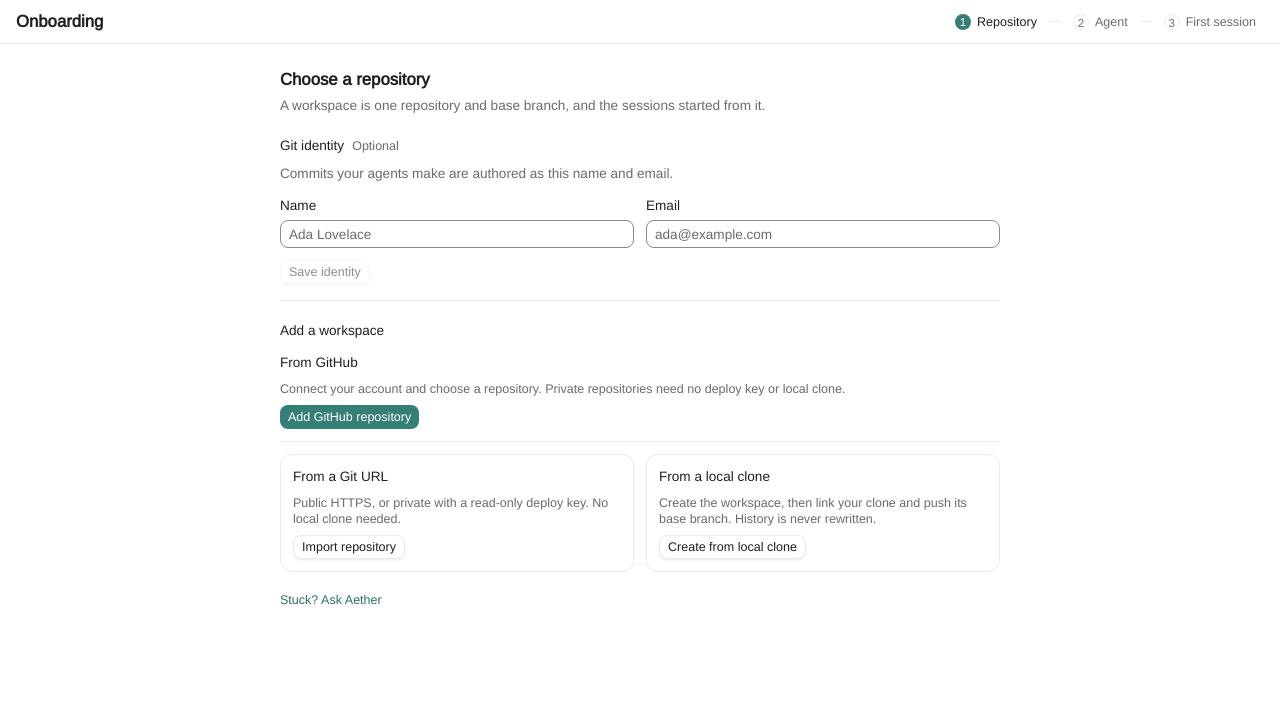
Test: onboarding wizard › starts a hosted member at Repository with the git identity on top, without probing the local machine
In the field named "Name": (457, 234) [280,220,634,248], type "Hosted member"
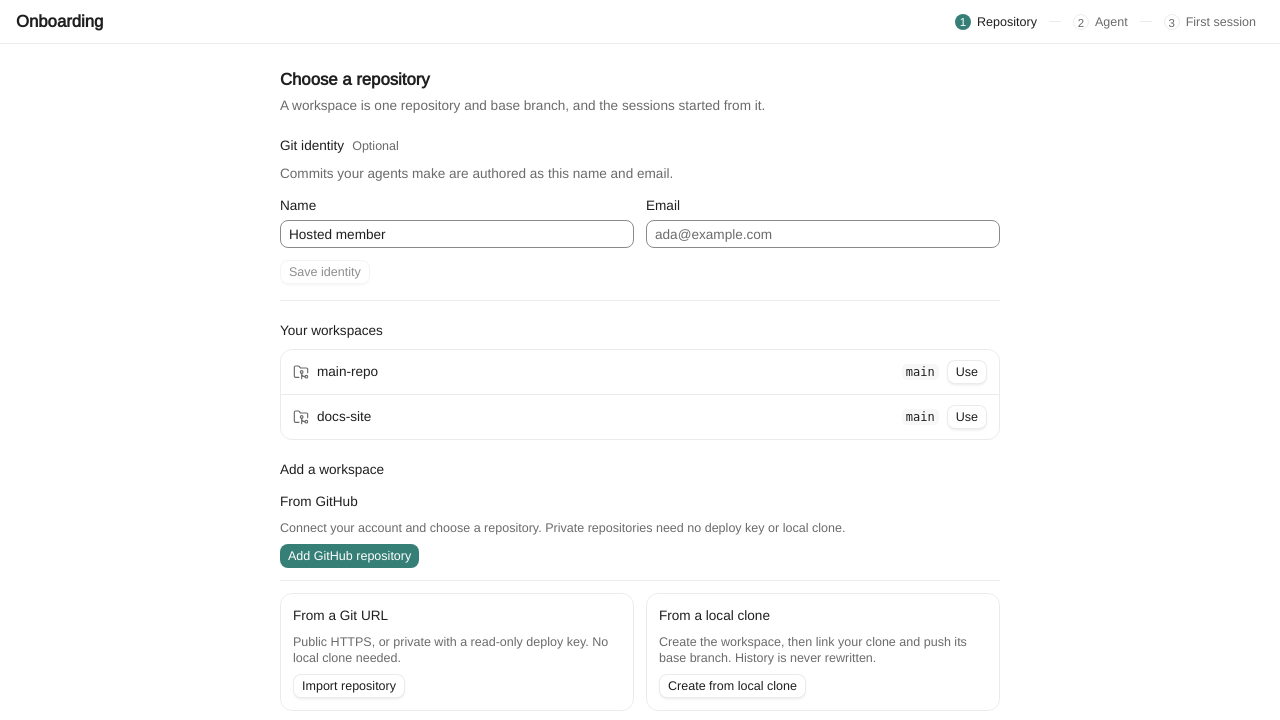
In the field named "Email": (823, 234) [646,220,1000,248], type "member@example.test"
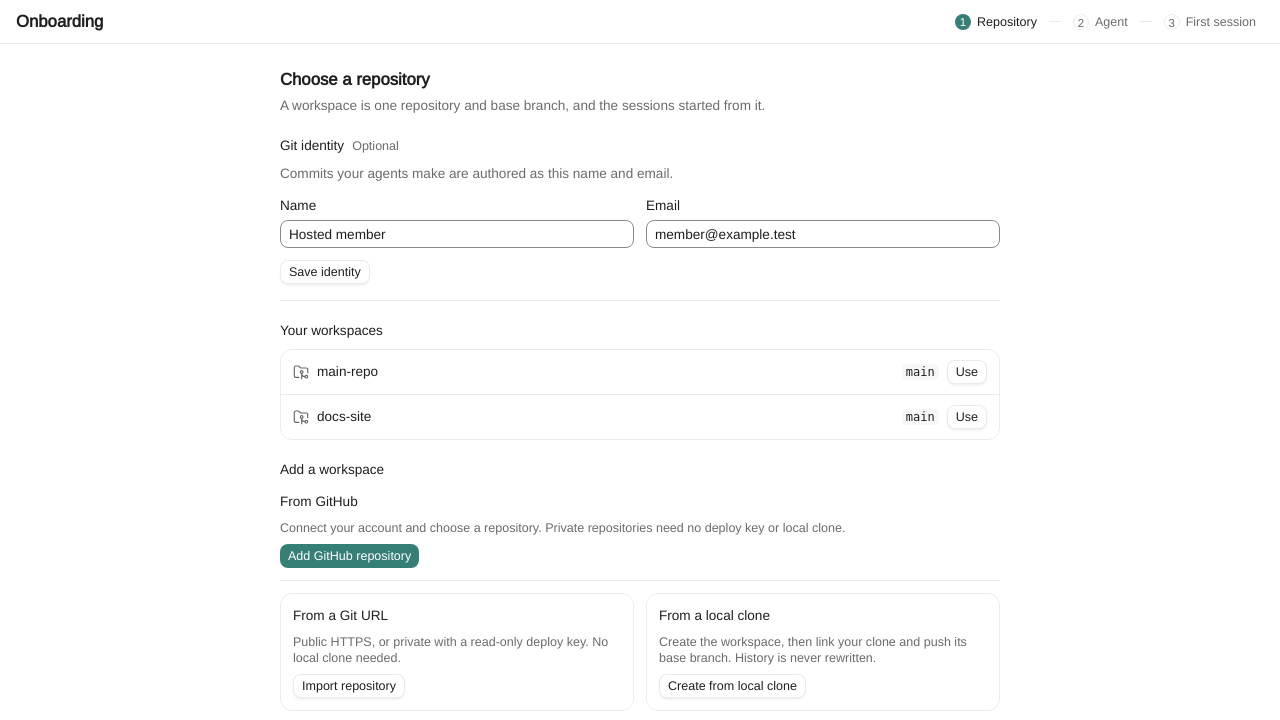
Click the 1st button named "Save identity": (325, 272) [280,260,370,284]
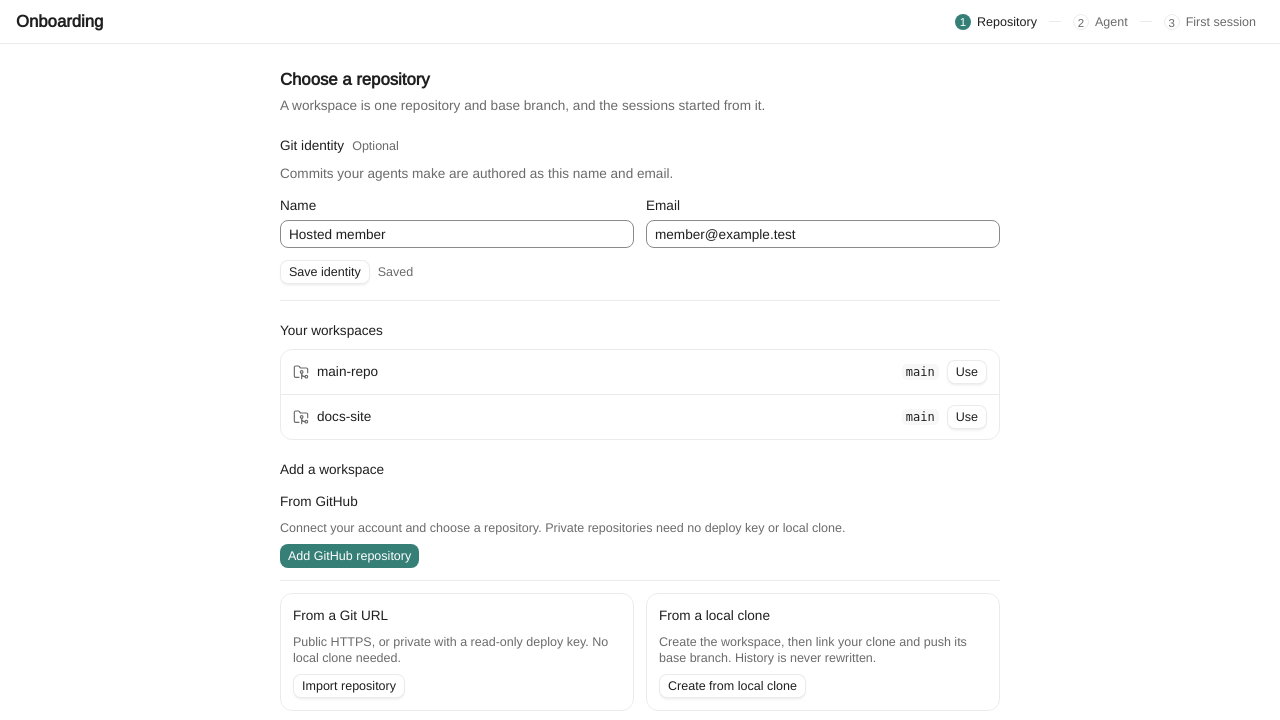
Now the text "Saved" is shown, box [378,264,413,280]
Click the 3rd button named "Import repository": (349, 686) [293,674,405,698]
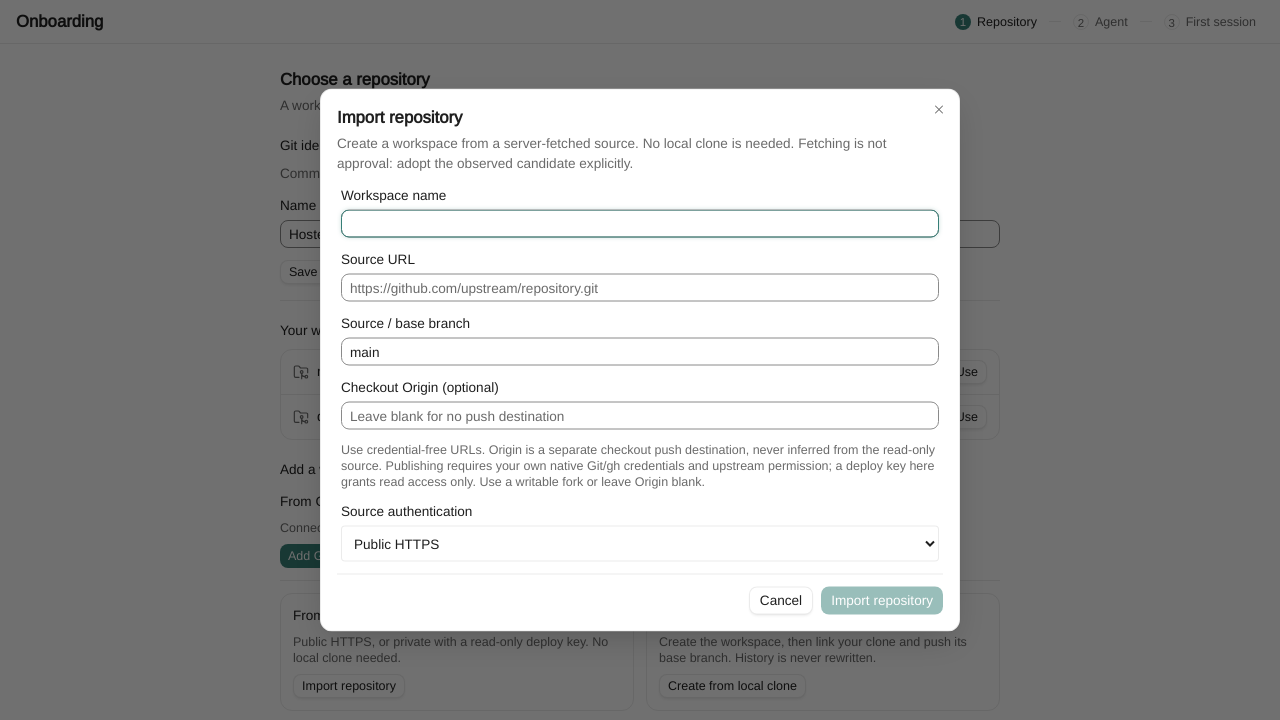
Now the dialog is shown, box [320,88,960,632]
